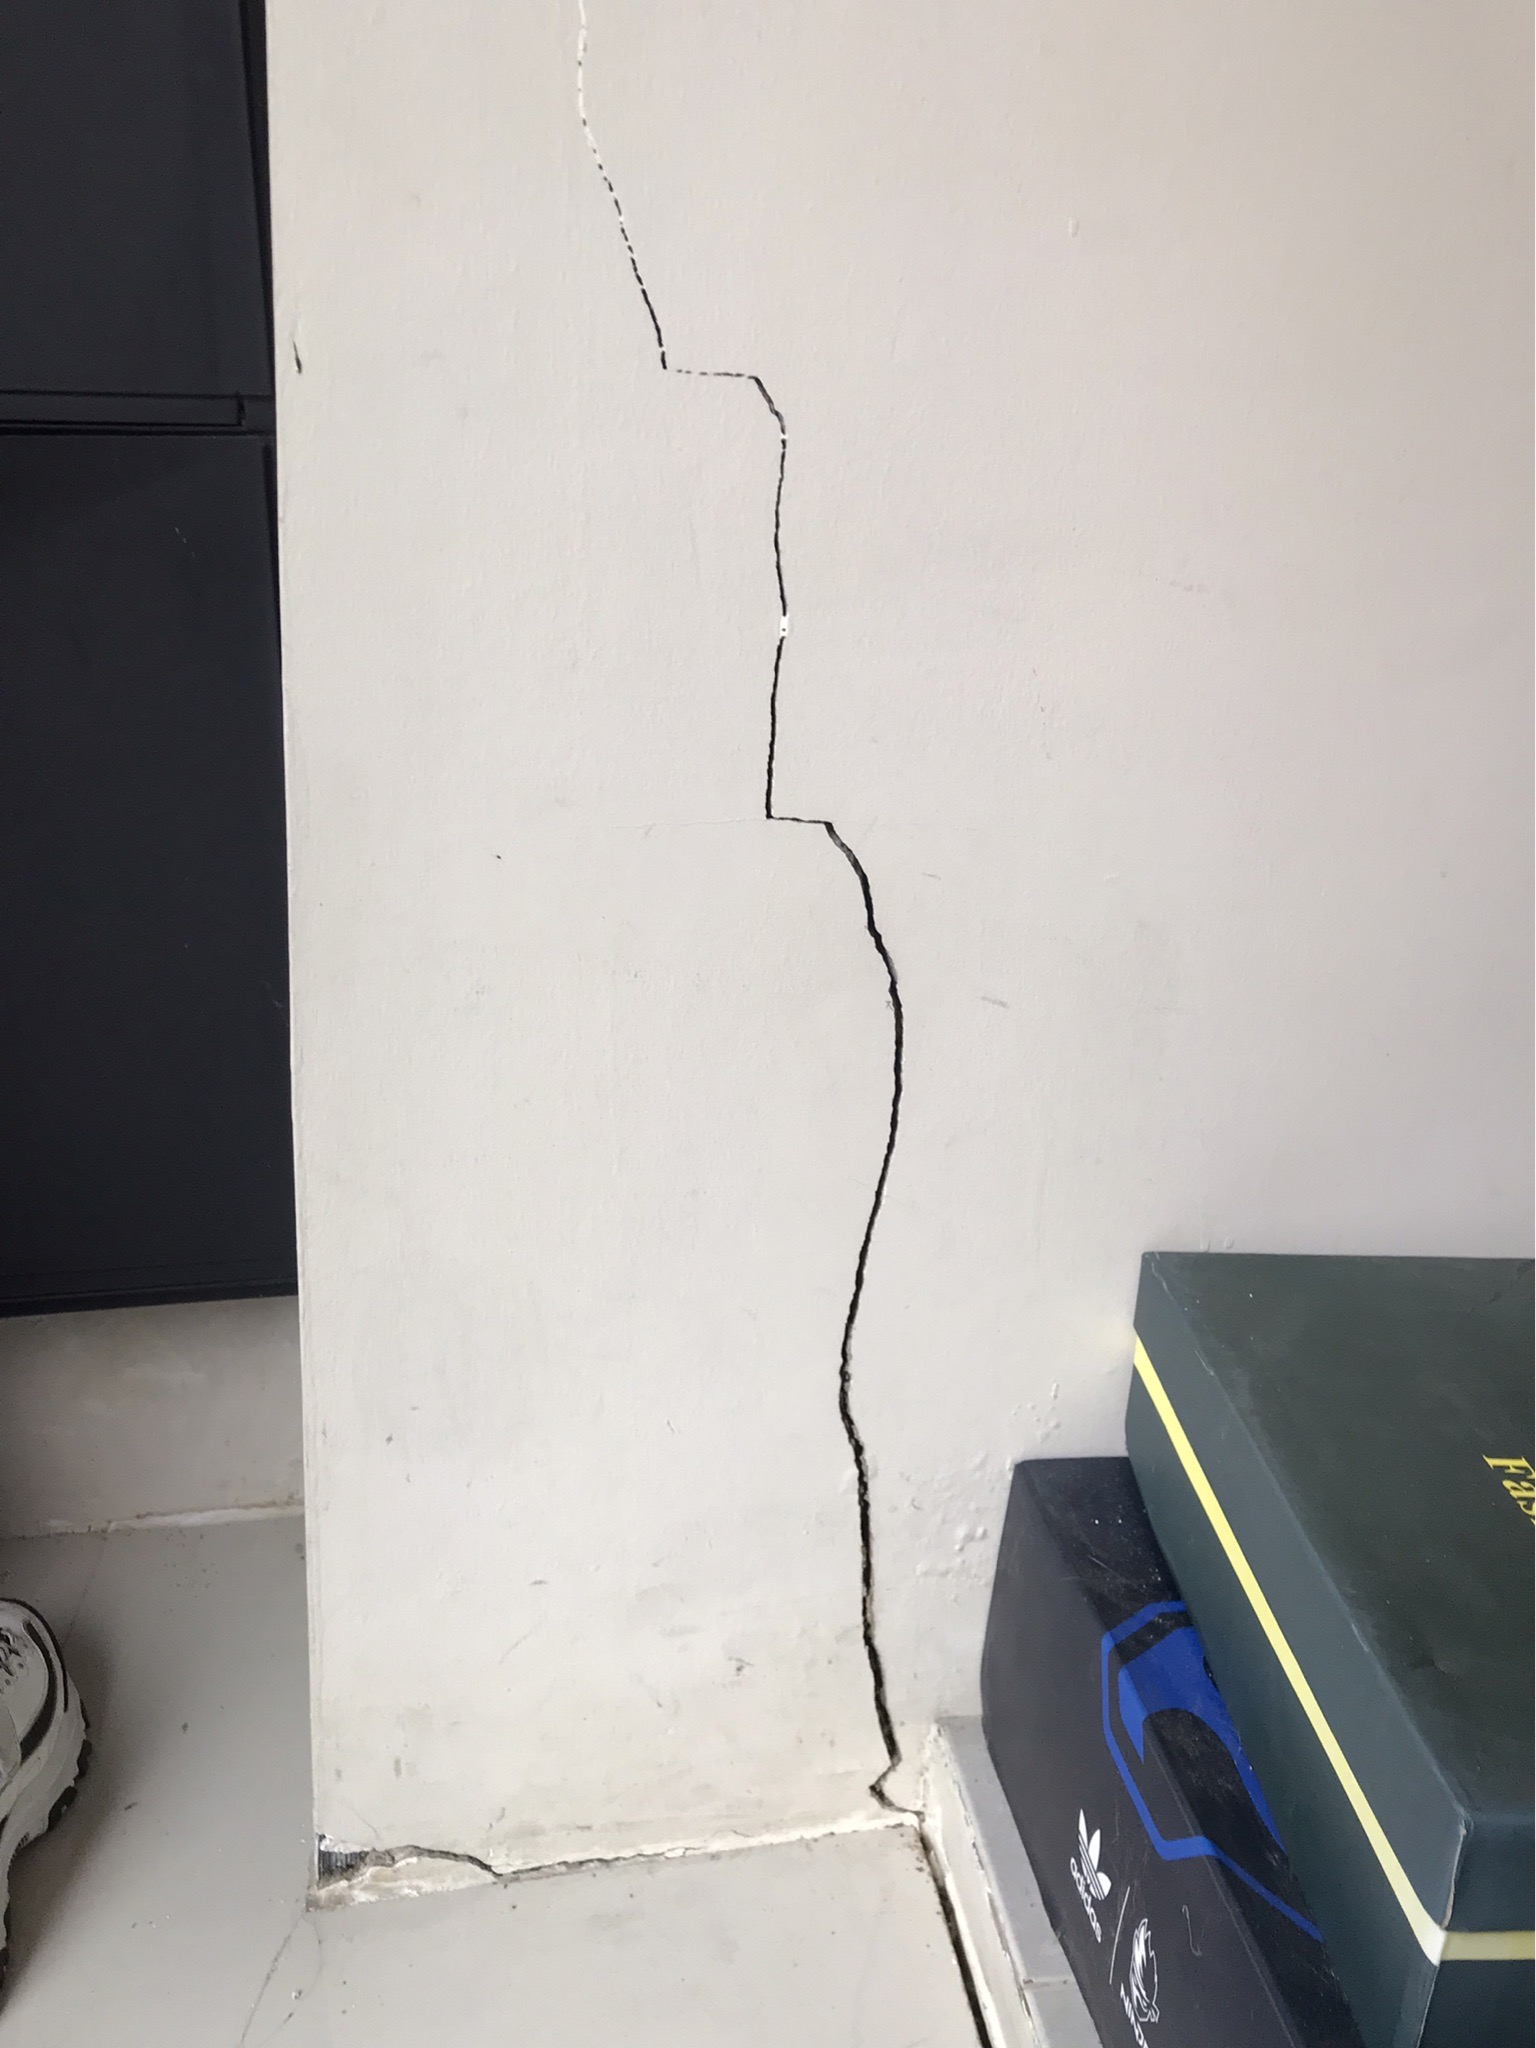High: (479, 2, 1013, 2048)
